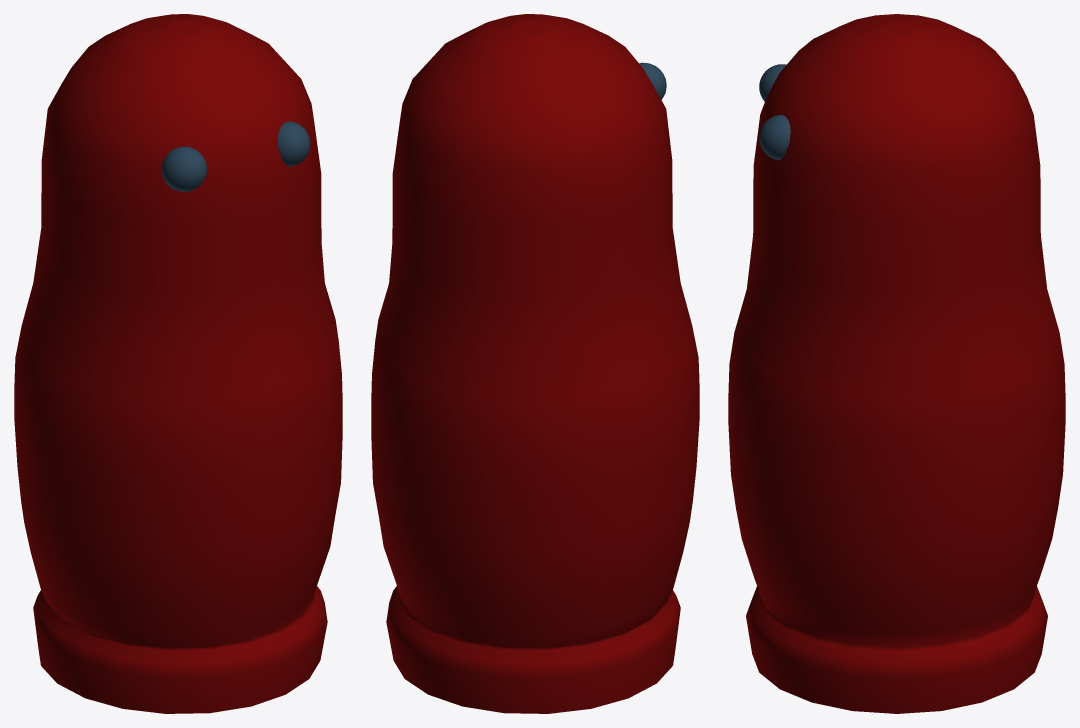
The model's file is person1.fbx.
The picture shows the model from 3 angles, left to right: view 1: azimuth 30°, elevation 25°; view 2: azimuth 150°, elevation 25°; view 3: azimuth 270°, elevation 25°; orthographic projection.
Visible parts, largest first — view 1: person1; view 2: person1; view 3: person1.
Part boxes in pixels (bbox=[...]): person1: bbox=[14, 14, 342, 713]; person1: bbox=[371, 14, 699, 713]; person1: bbox=[728, 14, 1065, 713].
Bounding box in the file's own units: 4.1 × 8.61 × 4.2.
